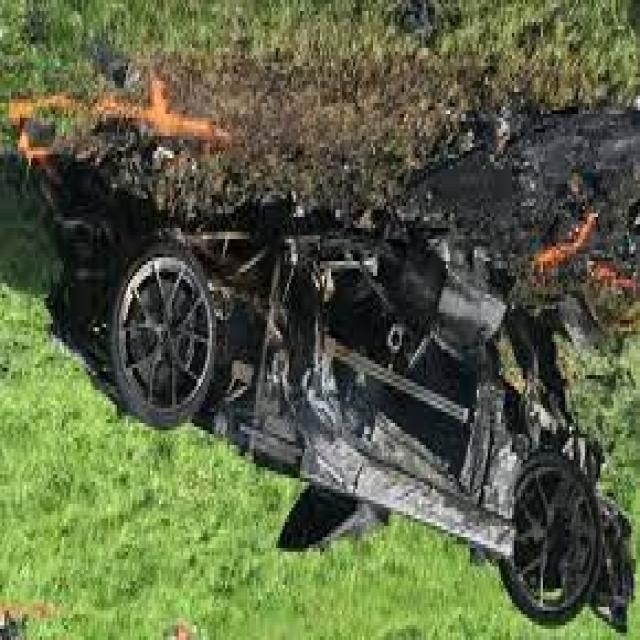severe: (39, 186, 636, 631)
